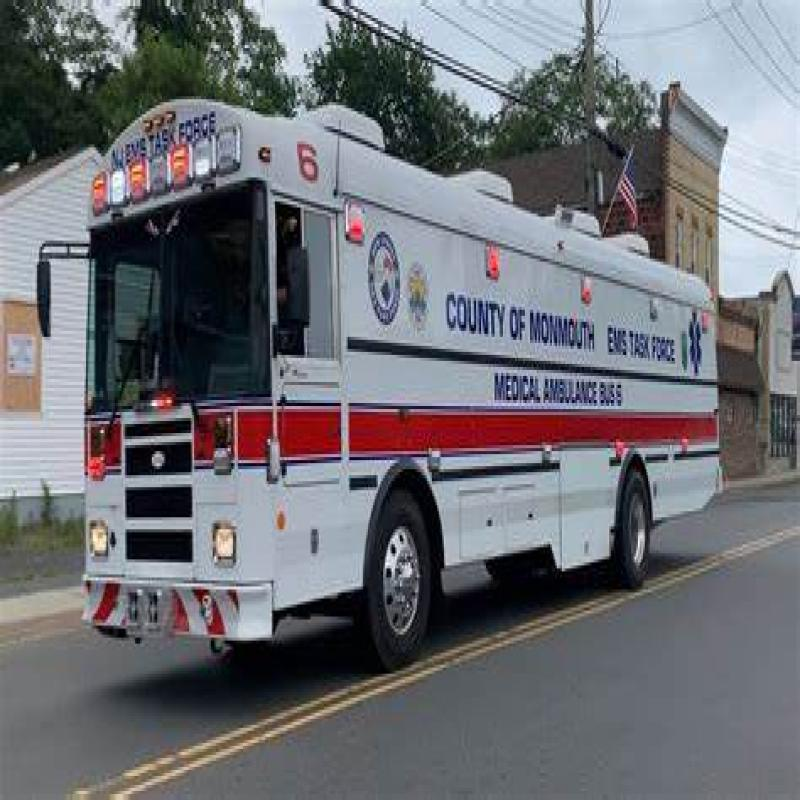AmbulanceSiren: (89, 105, 256, 219)
